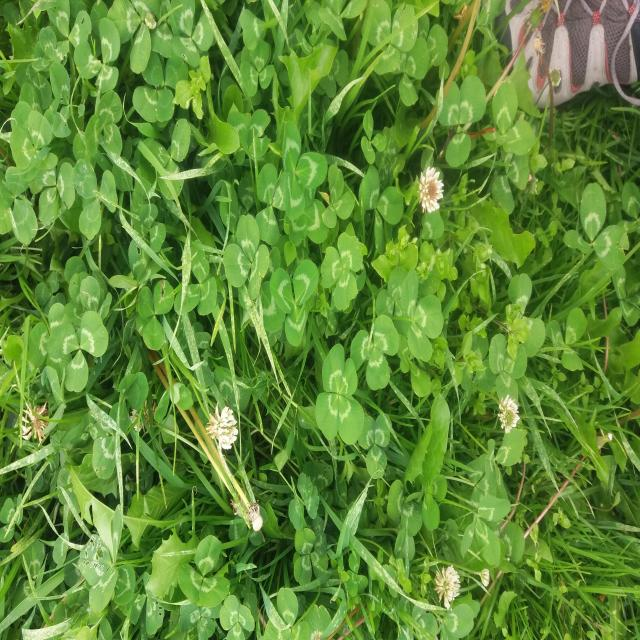Four Leaf Clover: (315, 343, 365, 445)
